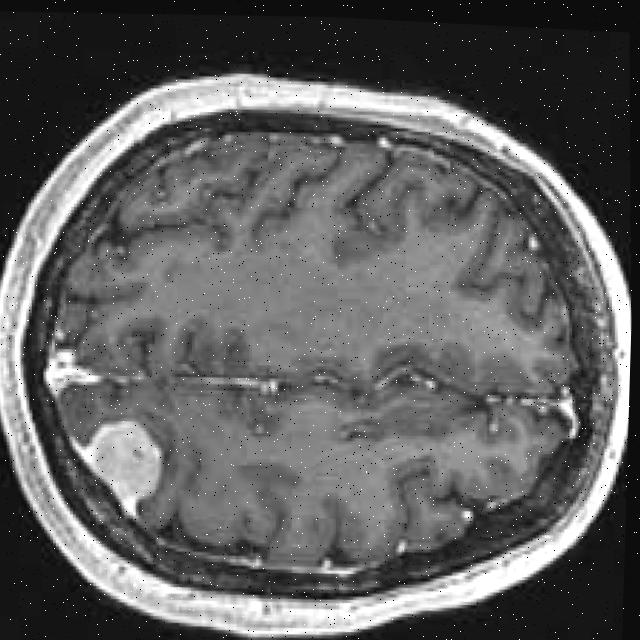Meningioma: (65, 413, 166, 528)
